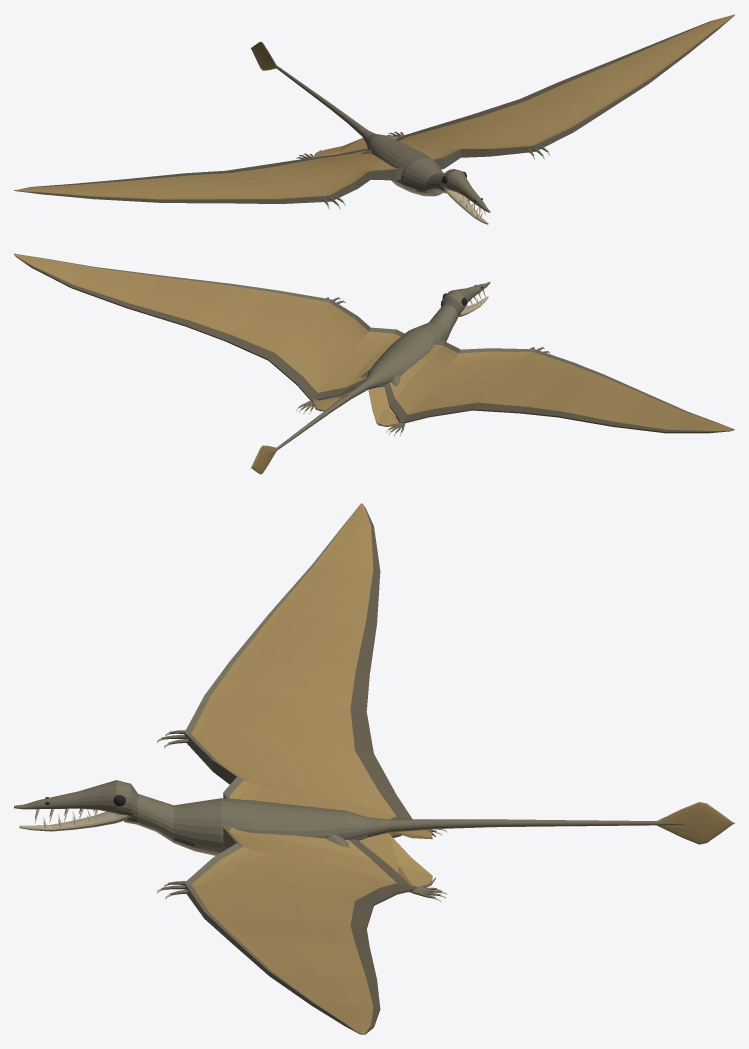
The picture shows the model from 3 angles, top to bottom: view 1: azimuth 30°, elevation 25°; view 2: azimuth 150°, elevation 25°; view 3: azimuth 270°, elevation 25°; orthographic projection. The views are drawn at different scales.
Visible parts, largest first — view 1: Right integrated closed ankle-attached wing, Left integrated closed ankle-attached wing, Continuous compact trunk short neck and long tail, Slender cranium and pointed upper toothed jaw, Vertical diamond tail vane, Left small interpretive hind membrane, Relaxed slender lower jaw; view 2: Right integrated closed ankle-attached wing, Left integrated closed ankle-attached wing, Continuous compact trunk short neck and long tail, Left small interpretive hind membrane, Slender cranium and pointed upper toothed jaw, Vertical diamond tail vane; view 3: Left integrated closed ankle-attached wing, Right integrated closed ankle-attached wing, Continuous compact trunk short neck and long tail, Slender cranium and pointed upper toothed jaw, Vertical diamond tail vane, Right small interpretive hind membrane, Relaxed slender lower jaw.
Part boxes in pixels (x1=…): Right integrated closed ankle-attached wing: x1=395, y1=14, x2=734, y2=169; Left integrated closed ankle-attached wing: x1=14, y1=148, x2=404, y2=203; Continuous compact trunk short neck and long tail: x1=266, y1=60, x2=446, y2=196; Slender cranium and pointed upper toothed jaw: x1=440, y1=169, x2=490, y2=212; Vertical diamond tail vane: x1=251, y1=41, x2=276, y2=70; Left small interpretive hind membrane: x1=315, y1=138, x2=367, y2=157; Relaxed slender lower jaw: x1=443, y1=188, x2=488, y2=224; Right integrated closed ankle-attached wing: x1=14, y1=253, x2=404, y2=400; Left integrated closed ankle-attached wing: x1=384, y1=340, x2=734, y2=433; Continuous compact trunk short neck and long tail: x1=268, y1=304, x2=458, y2=456; Left small interpretive hind membrane: x1=368, y1=386, x2=399, y2=425; Slender cranium and pointed upper toothed jaw: x1=440, y1=282, x2=490, y2=314; Vertical diamond tail vane: x1=251, y1=445, x2=276, y2=474; Left integrated closed ankle-attached wing: x1=184, y1=503, x2=412, y2=819; Right integrated closed ankle-attached wing: x1=184, y1=822, x2=414, y2=1034; Continuous compact trunk short neck and long tail: x1=124, y1=794, x2=733, y2=855; Slender cranium and pointed upper toothed jaw: x1=14, y1=780, x2=138, y2=816; Vertical diamond tail vane: x1=656, y1=802, x2=734, y2=844; Right small interpretive hind membrane: x1=359, y1=833, x2=432, y2=886; Relaxed slender lower jaw: x1=19, y1=811, x2=130, y2=831.
Bounding box in the file's own units: 1.2 × 0.1008 × 0.689.
